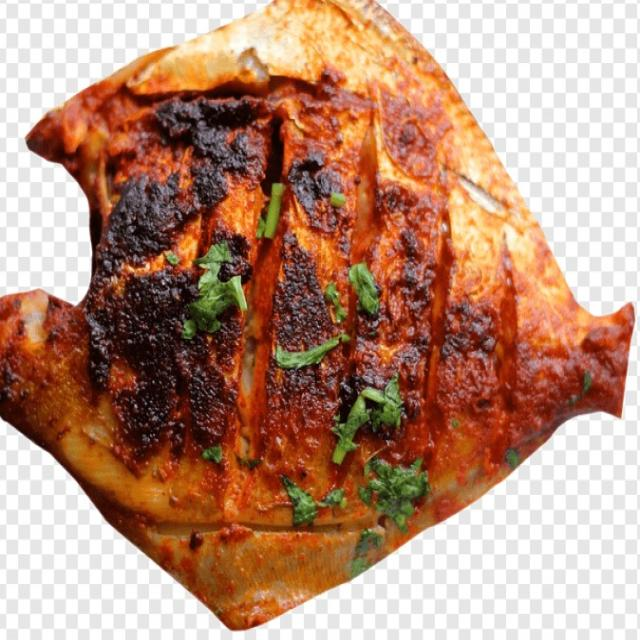FISH FRY: (0, 0, 635, 633)
